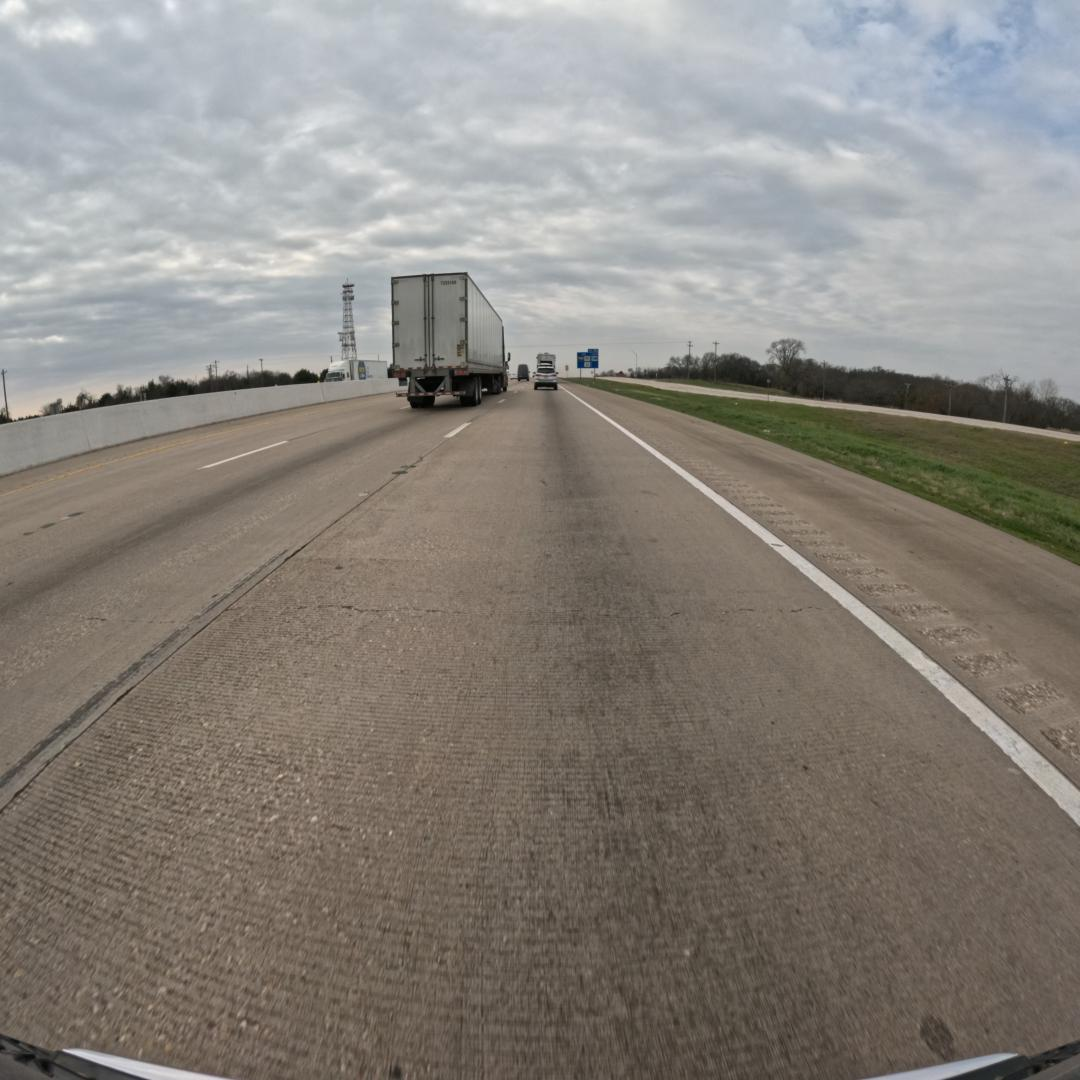lane0: (0, 392, 1080, 1077)
lane1: (0, 402, 499, 808)
